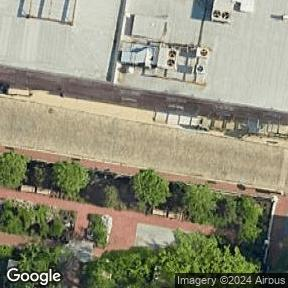vegetation: (86, 170, 263, 288), (30, 153, 104, 208), (0, 199, 69, 243), (0, 243, 72, 274), (0, 149, 33, 190), (101, 185, 128, 209), (88, 214, 107, 246)
